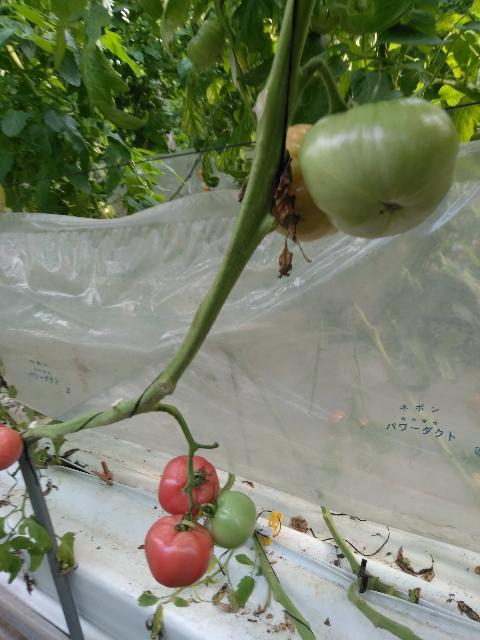b_fully_ripened: (143, 514, 215, 588), (158, 454, 221, 519)
b_green: (298, 97, 460, 239), (203, 490, 257, 550), (186, 19, 226, 69)
b_half_ripened: (271, 124, 340, 243), (0, 425, 23, 471)
